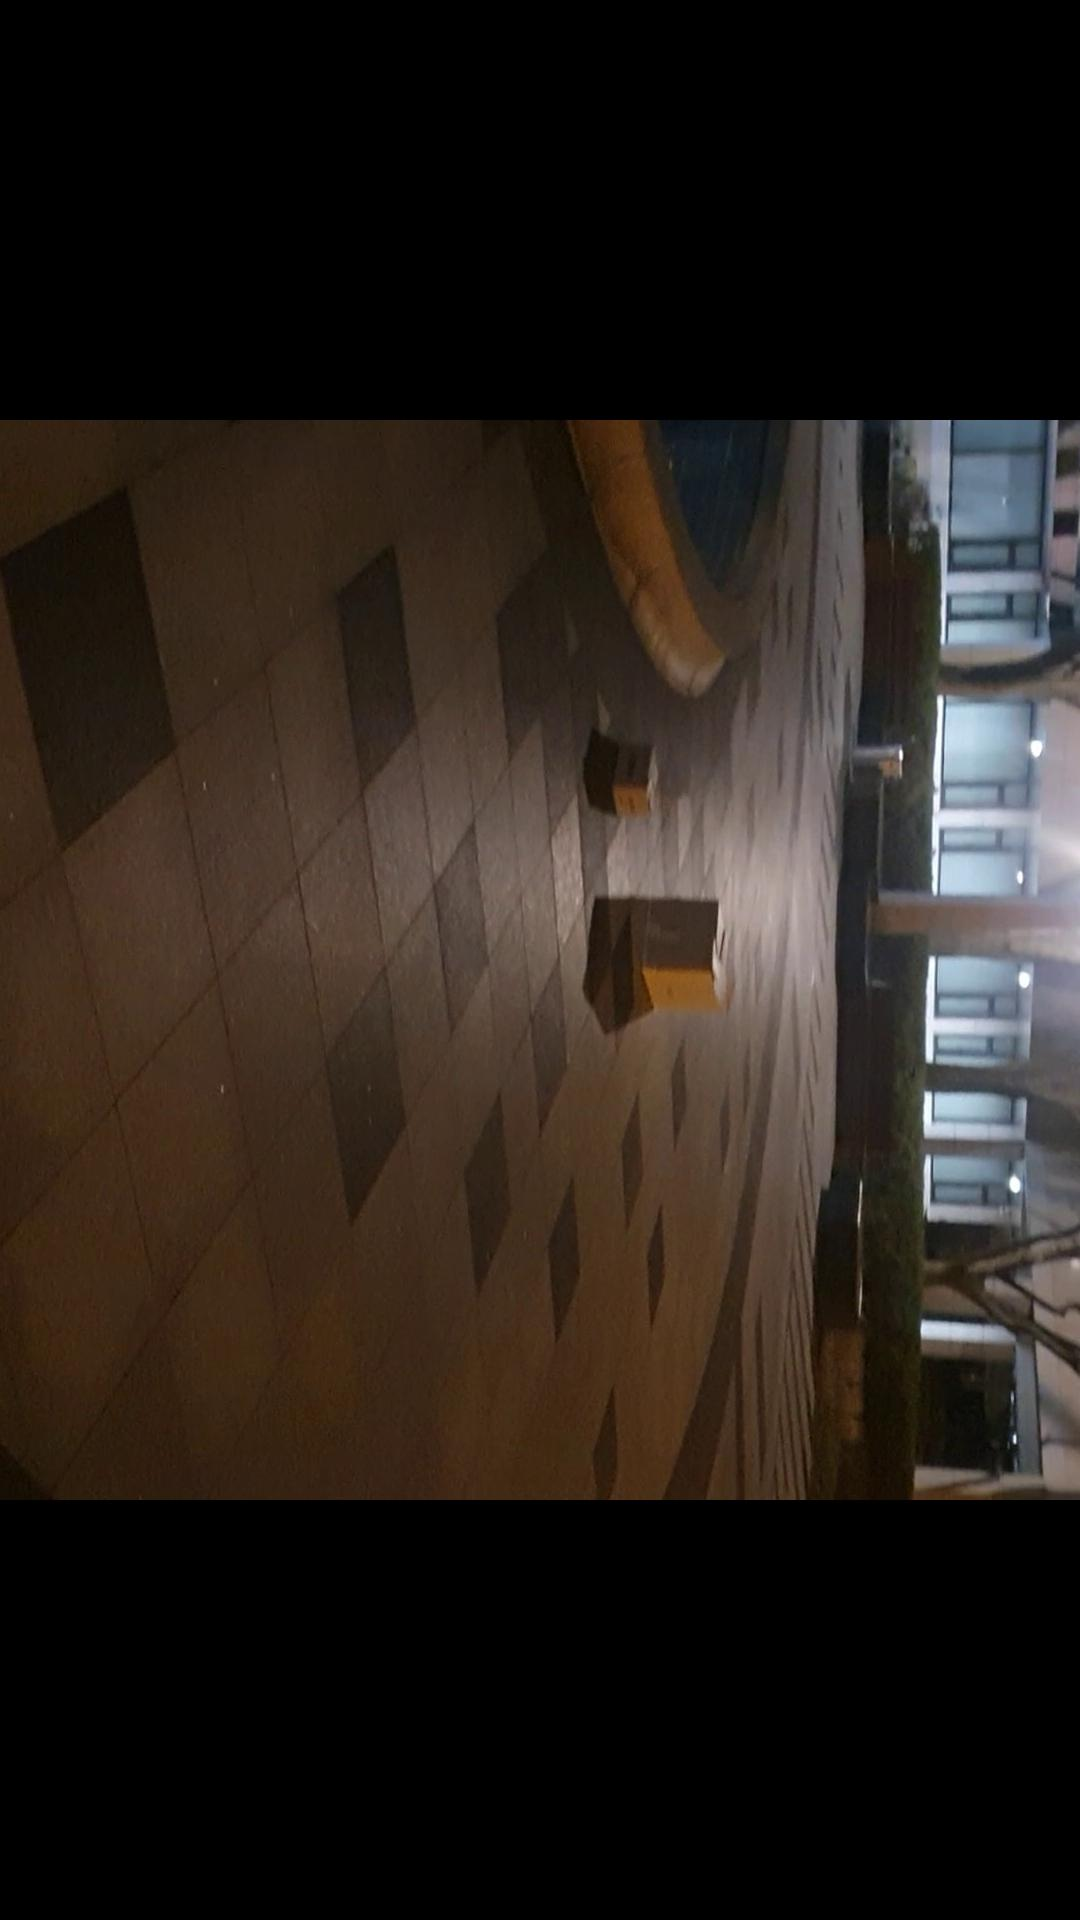Box: (603, 884, 735, 1027), (589, 733, 673, 840)
